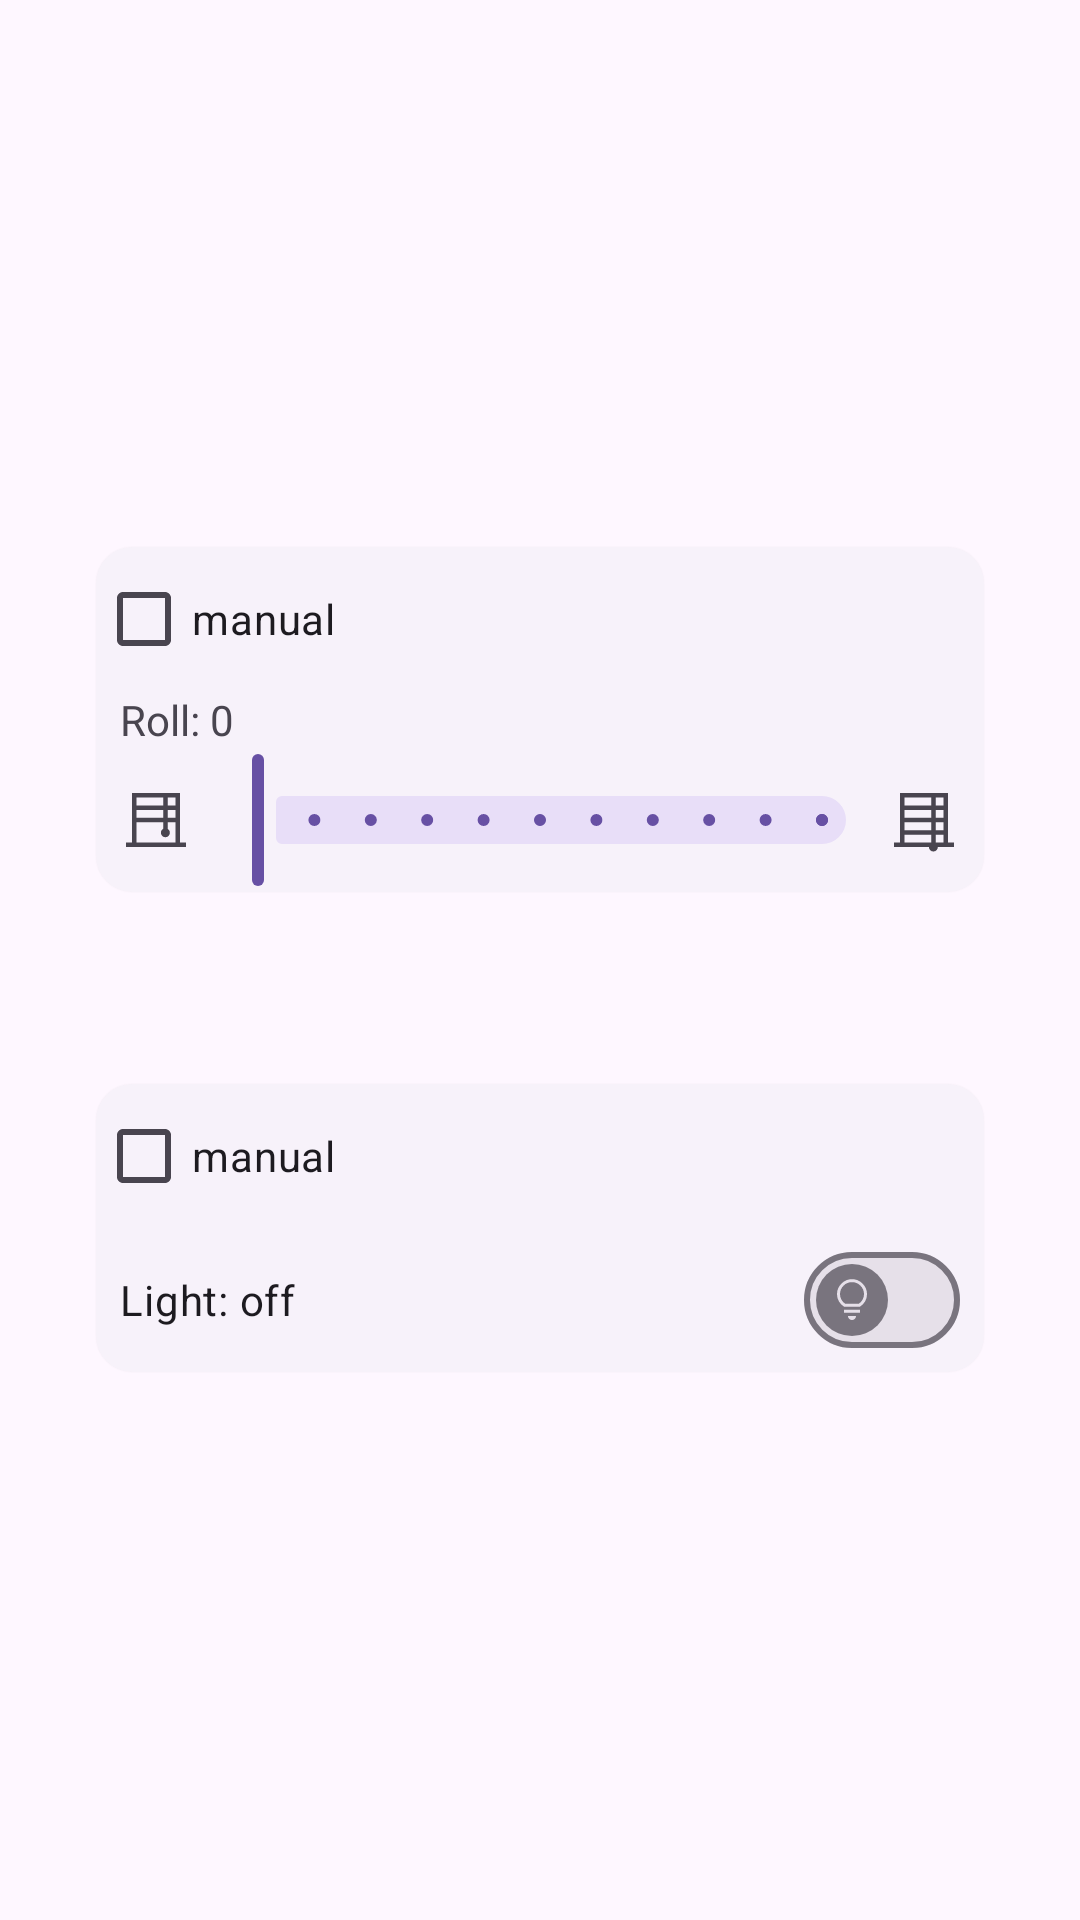

Locate icon controls on the screen. Image size 1080 × 1920, boxes as (x1, y1, x2, y2).
blinds: (126, 793, 186, 847)
blinds closed: (894, 793, 954, 852)
